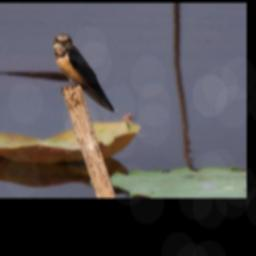Swallow: (52, 33, 116, 115)
